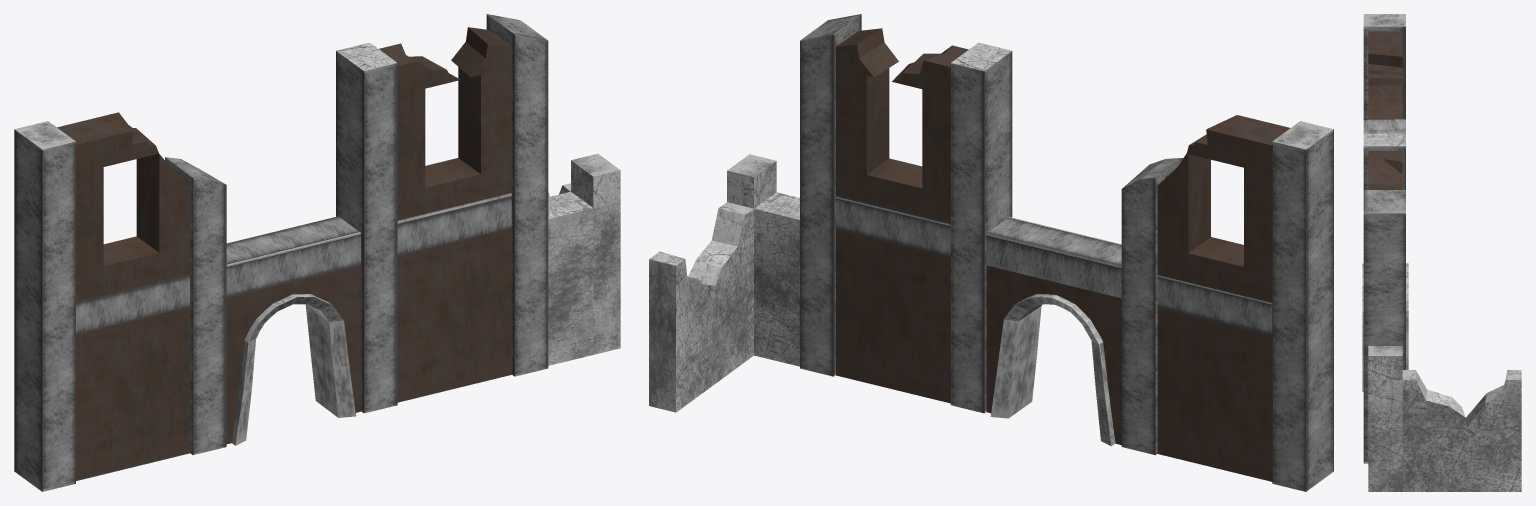
The model's file is building.fbx.
3 views of the same model, side by side, from view 1: azimuth 30°, elevation 25°; view 2: azimuth 150°, elevation 25°; view 3: azimuth 270°, elevation 25° (orthographic). The views are drawn at different scales.
Parts seen in each view (by area): view 1: broken building; view 2: broken building; view 3: broken building.
Part boxes in pixels (x1,y1,x2,y2): broken building: [14, 14, 620, 491]; broken building: [649, 14, 1333, 491]; broken building: [1362, 14, 1521, 491].
Size of the model in its own units: 986 by 557 by 307.
